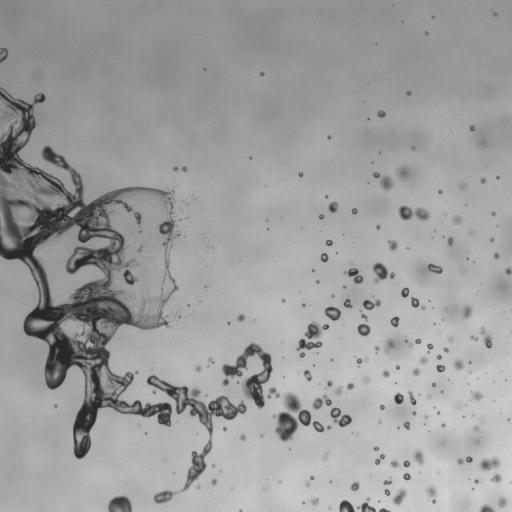droplet: (372, 261, 395, 283), (330, 406, 352, 427), (107, 494, 132, 511), (372, 172, 394, 191), (312, 393, 332, 410), (478, 456, 500, 471), (324, 306, 343, 321), (392, 487, 407, 505), (362, 298, 381, 310), (425, 485, 437, 503), (396, 165, 410, 180), (412, 449, 425, 465), (460, 304, 473, 319), (427, 263, 442, 274), (384, 338, 395, 353), (327, 201, 338, 213), (453, 358, 464, 370), (490, 472, 502, 483), (469, 391, 482, 401), (387, 240, 398, 251), (342, 298, 353, 309), (496, 496, 507, 507), (10, 89, 21, 100), (17, 148, 28, 159), (42, 161, 53, 172), (385, 167, 396, 178), (64, 181, 75, 192), (81, 193, 92, 204), (447, 225, 458, 236), (498, 257, 509, 268), (364, 268, 375, 279), (351, 297, 362, 308), (316, 313, 327, 324), (295, 327, 306, 338), (318, 330, 329, 341), (38, 341, 49, 352), (441, 355, 452, 366), (401, 363, 412, 374), (67, 364, 78, 375), (113, 365, 124, 376), (134, 373, 145, 384), (234, 382, 245, 393), (276, 383, 287, 394), (214, 385, 225, 396), (121, 391, 132, 402), (158, 392, 169, 403), (431, 393, 442, 404), (244, 397, 255, 408), (300, 399, 311, 410), (96, 406, 107, 417), (309, 409, 320, 420), (320, 414, 331, 425), (429, 414, 440, 425), (211, 415, 222, 426), (88, 426, 99, 437), (305, 486, 316, 497), (302, 488, 313, 499), (350, 497, 361, 508), (382, 497, 393, 508), (303, 369, 312, 381), (394, 392, 403, 404), (452, 215, 462, 225), (410, 296, 419, 307), (390, 316, 399, 327), (436, 364, 446, 373), (324, 379, 333, 389), (350, 481, 359, 491), (309, 496, 319, 505), (320, 253, 329, 262), (236, 313, 245, 322), (362, 375, 371, 384), (454, 401, 463, 410), (383, 476, 392, 485), (32, 102, 41, 111), (52, 145, 61, 154), (408, 168, 417, 177), (485, 173, 494, 182), (390, 174, 399, 183), (386, 187, 395, 196), (171, 192, 180, 201), (408, 201, 417, 210), (458, 221, 467, 230), (161, 305, 170, 314), (119, 322, 128, 331), (485, 326, 494, 335), (29, 335, 38, 344), (32, 336, 41, 345), (394, 338, 403, 347), (432, 345, 441, 354), (235, 346, 244, 355), (228, 374, 237, 383), (260, 382, 269, 391), (471, 382, 480, 391), (325, 388, 334, 397), (166, 396, 175, 405), (279, 404, 288, 413), (321, 404, 330, 413), (169, 411, 178, 420), (67, 413, 76, 422), (270, 418, 279, 427), (483, 451, 492, 460), (203, 454, 212, 463), (472, 455, 481, 464), (486, 467, 495, 476), (422, 478, 431, 487), (488, 499, 497, 508), (317, 500, 326, 509), (476, 139, 486, 147), (401, 287, 409, 297), (206, 357, 214, 367), (412, 367, 420, 377), (447, 236, 454, 247), (377, 110, 386, 118), (458, 182, 467, 190), (419, 356, 428, 364), (334, 386, 342, 395), (402, 421, 410, 430), (403, 472, 411, 481), (239, 432, 246, 442), (322, 451, 329, 461), (305, 505, 316, 511), (389, 505, 400, 511), (492, 505, 503, 511), (470, 334, 478, 342), (194, 364, 202, 372), (346, 382, 354, 390), (381, 370, 390, 377), (325, 239, 333, 246), (447, 335, 454, 343), (0, 98, 5, 109), (0, 214, 5, 225), (374, 344, 379, 354), (504, 267, 511, 274), (26, 96, 33, 103), (30, 128, 37, 135), (36, 145, 43, 152), (64, 156, 71, 163), (80, 176, 87, 183), (81, 180, 88, 187), (115, 182, 122, 189), (323, 198, 330, 205), (423, 204, 430, 211), (336, 205, 343, 212), (323, 208, 330, 215), (393, 211, 400, 218), (446, 213, 453, 220), (410, 214, 417, 221), (403, 218, 410, 225), (171, 237, 178, 244), (396, 243, 403, 250), (324, 246, 331, 253), (168, 255, 175, 262), (13, 257, 20, 264), (370, 271, 377, 278), (407, 290, 414, 297), (404, 296, 411, 303), (337, 303, 344, 310), (27, 304, 34, 311), (456, 307, 463, 314), (469, 311, 476, 318), (230, 316, 237, 323), (324, 317, 331, 324), (150, 327, 157, 334), (241, 341, 248, 348), (378, 341, 385, 348), (419, 341, 426, 348), (104, 343, 111, 350), (261, 346, 268, 353), (106, 357, 113, 364), (200, 359, 207, 366), (229, 359, 236, 366), (269, 359, 276, 366), (417, 363, 424, 370), (388, 367, 395, 374), (459, 367, 466, 374), (309, 368, 316, 375), (219, 372, 226, 379), (299, 374, 306, 381), (466, 374, 473, 381), (170, 379, 177, 386), (341, 386, 348, 393), (195, 394, 202, 401), (402, 395, 409, 402), (126, 397, 133, 404), (232, 399, 239, 406), (471, 399, 478, 406), (74, 403, 81, 410), (184, 404, 191, 411), (460, 407, 467, 414), (235, 412, 242, 419), (135, 413, 142, 420), (406, 414, 413, 421), (437, 414, 444, 421), (470, 418, 477, 425), (296, 422, 303, 429), (291, 430, 298, 437), (472, 431, 479, 438), (272, 432, 279, 439), (285, 438, 292, 445), (195, 447, 202, 454), (84, 451, 91, 458), (422, 453, 429, 460), (497, 455, 504, 462), (409, 458, 416, 465), (185, 460, 192, 467), (401, 466, 408, 473), (197, 472, 204, 479), (500, 473, 507, 480), (180, 474, 187, 481), (191, 478, 198, 485), (166, 484, 173, 491), (390, 489, 397, 496), (114, 490, 121, 497), (400, 497, 407, 504), (129, 500, 136, 507), (305, 501, 312, 508), (467, 230, 475, 236), (479, 415, 485, 423), (506, 497, 511, 506), (331, 506, 340, 511), (471, 506, 480, 511), (181, 166, 187, 173), (480, 177, 487, 183), (493, 252, 499, 259), (424, 394, 431, 400), (472, 425, 479, 431), (211, 478, 217, 485), (263, 484, 269, 491), (384, 488, 390, 495), (474, 478, 482, 483), (469, 125, 475, 131), (443, 347, 449, 353), (379, 404, 385, 410), (172, 166, 179, 171), (204, 285, 209, 292), (372, 446, 379, 451), (130, 506, 137, 511), (352, 208, 357, 214), (318, 214, 324, 219), (420, 304, 425, 310), (436, 354, 442, 359), (440, 422, 446, 427), (259, 432, 264, 438), (474, 438, 479, 444), (277, 479, 283, 484), (507, 261, 511, 268), (102, 507, 109, 511), (353, 507, 360, 511), (259, 71, 264, 76), (406, 90, 411, 95), (326, 134, 331, 139), (298, 172, 303, 177), (491, 211, 496, 216), (489, 237, 494, 242), (281, 298, 286, 303), (301, 302, 306, 307), (431, 382, 436, 387), (222, 426, 227, 431), (211, 463, 216, 468), (6, 53, 11, 58), (406, 85, 411, 90), (44, 94, 49, 99), (379, 105, 384, 110), (384, 109, 389, 114), (377, 116, 382, 121), (380, 116, 385, 121), (468, 120, 473, 125), (464, 125, 469, 130), (26, 140, 31, 145), (183, 161, 188, 166), (177, 163, 182, 168), (75, 168, 80, 173), (177, 168, 182, 173), (379, 171, 384, 176), (480, 172, 485, 177), (375, 177, 380, 182), (475, 177, 480, 182), (124, 182, 129, 187), (130, 182, 135, 187), (141, 182, 146, 187), (146, 182, 151, 187), (481, 182, 486, 187), (119, 183, 124, 188), (151, 183, 156, 188), (154, 184, 159, 189), (161, 186, 166, 191), (402, 201, 407, 206), (494, 208, 499, 213), (457, 211, 462, 216), (171, 226, 176, 231), (444, 233, 449, 238), (486, 233, 491, 238), (388, 235, 393, 240), (442, 237, 447, 242), (452, 239, 457, 244), (384, 242, 389, 247), (390, 249, 395, 254), (489, 250, 494, 255), (498, 252, 503, 257), (326, 258, 331, 263), (370, 260, 375, 265), (433, 260, 438, 265), (352, 263, 357, 268), (344, 265, 349, 270), (168, 267, 173, 272), (386, 268, 391, 273), (357, 270, 362, 275), (501, 270, 506, 275), (170, 272, 175, 277), (434, 272, 439, 277), (349, 275, 354, 280), (385, 275, 390, 280), (174, 280, 179, 285), (356, 282, 361, 287), (172, 290, 177, 295), (284, 295, 289, 300), (378, 296, 383, 301), (166, 298, 171, 303), (370, 298, 375, 303), (349, 299, 354, 304), (358, 299, 363, 304), (418, 300, 423, 305), (379, 302, 384, 307), (372, 305, 377, 310), (362, 308, 367, 313), (235, 310, 240, 315), (243, 312, 248, 317), (335, 318, 340, 323), (359, 318, 364, 323), (305, 319, 310, 324), (397, 319, 402, 324), (239, 320, 244, 325), (365, 320, 370, 325), (18, 322, 23, 327), (353, 322, 358, 327), (160, 324, 165, 329), (388, 324, 393, 329), (303, 326, 308, 331), (369, 327, 374, 332), (353, 329, 358, 334), (20, 330, 25, 335), (367, 331, 372, 336), (473, 331, 478, 336), (355, 332, 360, 337), (451, 332, 456, 337), (363, 334, 368, 339), (409, 337, 414, 342), (490, 338, 495, 343), (294, 341, 299, 346), (321, 341, 326, 346), (402, 342, 407, 347), (412, 342, 417, 347), (444, 342, 449, 347), (480, 342, 485, 347), (311, 346, 316, 351), (301, 347, 306, 352), (389, 347, 394, 352), (370, 348, 375, 353), (377, 348, 382, 353), (440, 351, 445, 356), (356, 353, 361, 358), (211, 355, 216, 360), (436, 359, 441, 364), (462, 360, 467, 365), (191, 362, 196, 367), (201, 366, 206, 371), (379, 366, 384, 371), (190, 367, 195, 372), (408, 367, 413, 372), (432, 367, 437, 372), (299, 368, 304, 373), (151, 370, 156, 375), (197, 370, 202, 375), (269, 370, 274, 375), (377, 371, 382, 376), (418, 371, 423, 376), (132, 373, 137, 378), (143, 374, 148, 379), (233, 374, 238, 379), (415, 374, 420, 379), (159, 375, 164, 380), (329, 376, 334, 381), (382, 376, 387, 381), (310, 377, 315, 382), (62, 378, 67, 383), (346, 378, 351, 383), (321, 381, 326, 386), (342, 382, 347, 387), (42, 383, 47, 388), (353, 383, 358, 388), (126, 384, 131, 389), (195, 384, 200, 389), (79, 385, 84, 390), (150, 385, 155, 390), (54, 386, 59, 391), (154, 387, 159, 392), (275, 387, 280, 392), (347, 388, 352, 393), (479, 389, 484, 394), (467, 392, 472, 397), (317, 393, 322, 398), (412, 393, 417, 398), (117, 395, 122, 400), (135, 395, 140, 400), (389, 395, 394, 400), (479, 397, 484, 402), (390, 399, 395, 404), (203, 401, 208, 406), (321, 402, 326, 407), (398, 402, 403, 407), (329, 403, 334, 408), (411, 404, 416, 409), (339, 410, 344, 415), (348, 412, 353, 417), (193, 413, 198, 418), (465, 413, 470, 418), (309, 417, 314, 422), (420, 417, 425, 422), (424, 418, 429, 423), (321, 422, 326, 427), (160, 423, 165, 428), (408, 423, 413, 428), (343, 424, 348, 429), (424, 424, 429, 429), (477, 424, 482, 429), (400, 426, 405, 431), (203, 428, 208, 433), (234, 434, 239, 439), (245, 434, 250, 439), (236, 438, 241, 443), (242, 439, 247, 444), (69, 441, 74, 446), (211, 441, 216, 446), (70, 453, 75, 458), (187, 454, 192, 459), (461, 454, 466, 459), (452, 457, 457, 462), (398, 459, 403, 464), (462, 460, 467, 465), (468, 461, 473, 466), (455, 463, 460, 468), (214, 465, 219, 470), (352, 477, 357, 482), (215, 480, 220, 485), (299, 480, 304, 485), (347, 480, 352, 485), (491, 480, 496, 485), (471, 482, 476, 487), (358, 483, 363, 488), (211, 484, 216, 489), (385, 484, 390, 489), (160, 486, 165, 491), (149, 492, 154, 497), (312, 492, 317, 497), (171, 494, 176, 499), (427, 496, 432, 501), (318, 497, 323, 502), (360, 498, 365, 503), (335, 500, 340, 505), (160, 501, 165, 506), (367, 501, 372, 506), (374, 506, 379, 511), (0, 41, 3, 48), (0, 254, 3, 261), (424, 31, 429, 35), (411, 145, 415, 150), (438, 189, 442, 194), (376, 224, 380, 229), (315, 279, 319, 284), (342, 284, 346, 289), (395, 365, 400, 369), (412, 410, 416, 415), (437, 410, 441, 415), (196, 484, 200, 489), (324, 194, 328, 198), (443, 213, 447, 217), (311, 268, 315, 272), (330, 294, 334, 298), (187, 303, 191, 307), (226, 321, 230, 325), (468, 370, 472, 374), (317, 381, 321, 385), (53, 404, 57, 408), (424, 414, 428, 418), (506, 417, 510, 421), (437, 470, 441, 474), (230, 486, 234, 490), (301, 501, 305, 505), (327, 506, 331, 510), (378, 419, 381, 424), (508, 272, 511, 277), (431, 15, 435, 18), (496, 176, 500, 179), (265, 218, 268, 222), (406, 246, 409, 250), (444, 307, 447, 311), (314, 351, 318, 354), (468, 360, 471, 364), (135, 370, 138, 374), (394, 381, 398, 384), (137, 423, 140, 427), (238, 508, 242, 511), (203, 67, 206, 70), (378, 151, 381, 154), (249, 156, 252, 159), (464, 203, 467, 206), (266, 227, 269, 230), (433, 229, 436, 232), (466, 257, 469, 260), (371, 294, 374, 297), (253, 318, 256, 321), (441, 318, 444, 321), (330, 358, 333, 361), (312, 363, 315, 366), (282, 375, 285, 378), (467, 382, 470, 385), (440, 390, 443, 393), (205, 394, 208, 397), (432, 406, 435, 409), (462, 415, 465, 418), (471, 414, 474, 417), (423, 422, 426, 425), (397, 426, 400, 429), (144, 432, 147, 435), (196, 432, 199, 435), (219, 469, 222, 472), (329, 480, 332, 483), (377, 499, 380, 502), (493, 9, 496, 12), (432, 12, 435, 15), (427, 29, 430, 32), (422, 33, 425, 36), (426, 34, 429, 37), (1, 44, 4, 47), (6, 47, 9, 50), (3, 58, 6, 61), (203, 64, 206, 67), (260, 68, 263, 71), (202, 70, 205, 73), (256, 72, 259, 75), (263, 72, 266, 75), (260, 75, 263, 78), (2, 85, 5, 88), (410, 89, 413, 92), (403, 92, 406, 95), (408, 94, 411, 97), (366, 119, 369, 122), (473, 123, 476, 126), (472, 129, 475, 132), (324, 133, 327, 136), (324, 137, 327, 140), (328, 138, 331, 141), (377, 148, 380, 151), (375, 151, 378, 154), (380, 151, 383, 154), (250, 153, 253, 156), (245, 156, 248, 159), (251, 157, 254, 160), (248, 159, 251, 162), (373, 160, 376, 163), (173, 163, 176, 166), (169, 167, 172, 170), (186, 167, 189, 170), (299, 169, 302, 172), (172, 170, 175, 173), (371, 170, 374, 173), (496, 172, 499, 175), (302, 173, 305, 176), (296, 175, 299, 178), (492, 175, 495, 178), (499, 175, 502, 178), (438, 186, 441, 189), (168, 188, 171, 191), (173, 188, 176, 191), (441, 190, 444, 193), (435, 191, 438, 194), (438, 193, 441, 196), (193, 194, 196, 197), (321, 194, 324, 197), (185, 199, 188, 202), (356, 208, 359, 211), (491, 208, 494, 211), (349, 211, 352, 214), (356, 211, 359, 214), (352, 213, 355, 216), (491, 215, 494, 218), (267, 216, 270, 219), (182, 217, 185, 220), (187, 217, 190, 220), (322, 217, 325, 220), (317, 218, 320, 221), (376, 221, 379, 224), (266, 224, 269, 227), (373, 224, 376, 227), (379, 226, 382, 229), (268, 227, 271, 230), (431, 232, 434, 235), (178, 235, 181, 238), (328, 236, 331, 239), (331, 238, 334, 241), (486, 238, 489, 241), (493, 238, 496, 241), (208, 243, 211, 246), (323, 243, 326, 246), (170, 247, 173, 250), (208, 247, 211, 250), (320, 250, 323, 253), (317, 254, 320, 257), (466, 254, 469, 257), (317, 257, 320, 260), (466, 259, 469, 262), (323, 261, 326, 264), (425, 262, 428, 265), (168, 263, 171, 266), (207, 263, 210, 266), (425, 267, 428, 270), (441, 267, 444, 270), (308, 268, 311, 271), (314, 269, 317, 272), (310, 271, 313, 274), (393, 275, 396, 278), (316, 276, 319, 279), (312, 280, 315, 283), (319, 280, 322, 283), (204, 281, 207, 284), (33, 282, 36, 285), (201, 283, 204, 286), (316, 283, 319, 286), (339, 284, 342, 287), (404, 284, 407, 287), (328, 292, 331, 295), (333, 292, 336, 295), (398, 292, 401, 295), (169, 295, 172, 298), (280, 295, 283, 298), (427, 296, 430, 299), (342, 298, 345, 301), (278, 299, 281, 302), (430, 299, 433, 302), (186, 300, 189, 303), (283, 301, 286, 304), (298, 302, 301, 305), (305, 303, 308, 306), (189, 304, 192, 307), (417, 304, 420, 307), (184, 305, 187, 308), (302, 306, 305, 309), (346, 306, 349, 309), (412, 306, 415, 309), (172, 311, 175, 314), (180, 313, 183, 316), (394, 313, 397, 316), (391, 314, 394, 317), (180, 316, 183, 319), (227, 318, 230, 321), (387, 319, 390, 322), (439, 320, 442, 323), (224, 322, 227, 325), (388, 322, 391, 325), (429, 322, 432, 325), (435, 322, 438, 325), (228, 324, 231, 327), (432, 324, 435, 327), (417, 335, 420, 338), (401, 338, 404, 341), (471, 338, 474, 341), (428, 340, 431, 343), (431, 342, 434, 345), (416, 343, 419, 346), (425, 347, 428, 350), (374, 354, 377, 357), (327, 356, 330, 359), (360, 356, 363, 359), (332, 357, 335, 360), (471, 360, 474, 363), (314, 362, 317, 365), (359, 362, 362, 365), (394, 362, 397, 365), (397, 362, 400, 365), (399, 365, 402, 368), (397, 368, 400, 371), (282, 372, 285, 375), (284, 375, 287, 378), (478, 376, 481, 379), (501, 377, 504, 380), (506, 377, 509, 380), (449, 378, 452, 381), (475, 379, 478, 382), (307, 380, 310, 383), (396, 380, 399, 383), (429, 380, 432, 383), (434, 380, 437, 383), (81, 382, 84, 385), (428, 383, 431, 386), (464, 383, 467, 386), (326, 385, 329, 388), (434, 385, 437, 388), (467, 388, 470, 391), (443, 389, 446, 392), (223, 393, 226, 396), (328, 396, 331, 399), (52, 401, 55, 404), (56, 402, 59, 405), (432, 402, 435, 405), (383, 403, 386, 406), (376, 404, 379, 407), (50, 405, 53, 408), (56, 405, 59, 408), (429, 405, 432, 408), (377, 407, 380, 410), (380, 409, 383, 412), (433, 409, 436, 412), (409, 411, 412, 414), (439, 412, 442, 415), (462, 412, 465, 415), (412, 414, 415, 417), (436, 414, 439, 417), (504, 416, 507, 419), (461, 417, 464, 420), (405, 418, 408, 421), (375, 419, 378, 422), (505, 420, 508, 423), (444, 421, 447, 424), (393, 426, 396, 429), (440, 426, 443, 429), (144, 428, 147, 431), (223, 430, 226, 433), (259, 430, 262, 433), (317, 431, 320, 434), (425, 431, 428, 434), (141, 432, 144, 435), (146, 432, 149, 435), (256, 434, 259, 437), (263, 434, 266, 437), (479, 439, 482, 442), (375, 443, 378, 446), (190, 448, 193, 451), (286, 449, 289, 452), (468, 453, 471, 456), (327, 455, 330, 458), (372, 462, 375, 465), (172, 468, 175, 471), (310, 472, 313, 475), (400, 473, 403, 476), (409, 473, 412, 476), (306, 476, 309, 479), (313, 476, 316, 479), (328, 476, 331, 479), (400, 476, 403, 479), (331, 478, 334, 481), (386, 478, 389, 481), (390, 478, 393, 481), (325, 479, 328, 482), (380, 479, 383, 482), (406, 479, 409, 482), (471, 479, 474, 482), (468, 487, 471, 490), (381, 490, 384, 493), (383, 494, 386, 497), (300, 498, 303, 501), (435, 499, 438, 502), (304, 500, 307, 503), (298, 501, 301, 504), (433, 502, 436, 505), (384, 506, 387, 509), (431, 236, 433, 240), (280, 341, 284, 343), (509, 480, 511, 484), (367, 117, 369, 120), (367, 181, 369, 184), (496, 224, 498, 227), (335, 252, 338, 254), (472, 261, 475, 263), (198, 300, 201, 302), (183, 316, 186, 318), (433, 322, 435, 325), (417, 393, 420, 395), (465, 403, 467, 406), (172, 472, 175, 474), (471, 488, 474, 490), (509, 416, 511, 419), (509, 483, 511, 486), (235, 509, 238, 511), (241, 509, 244, 511), (327, 509, 330, 511), (371, 161, 373, 163), (342, 233, 344, 235), (442, 235, 444, 237), (282, 356, 284, 358), (447, 378, 449, 380), (427, 430, 429, 432), (289, 448, 291, 450), (419, 471, 421, 473), (375, 43, 377, 44), (299, 290, 300, 292), (428, 300, 430, 301)
ligament: (295, 320, 329, 358), (338, 496, 391, 511), (398, 205, 430, 220), (357, 309, 370, 336), (479, 326, 493, 348), (390, 460, 410, 468), (456, 456, 473, 465), (407, 390, 417, 405), (478, 503, 496, 511), (374, 453, 385, 465), (304, 475, 314, 487), (0, 47, 7, 63), (427, 343, 433, 354), (192, 192, 197, 200), (492, 10, 497, 17), (182, 200, 189, 205), (351, 432, 358, 436), (211, 246, 214, 253), (185, 216, 189, 219), (207, 245, 208, 249), (510, 330, 511, 333)
